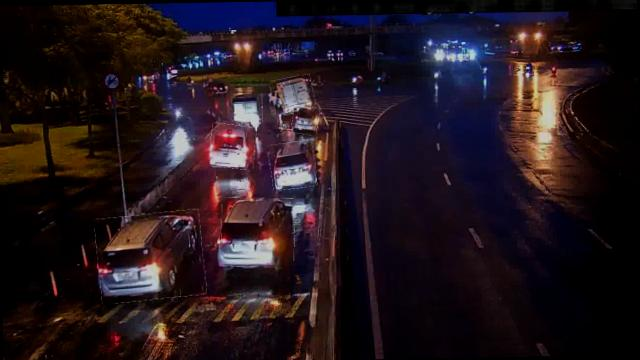Bus: (209, 122, 256, 168)
Car: (96, 210, 206, 302), (220, 197, 296, 267), (268, 139, 316, 190), (291, 106, 319, 135)
Truck: (270, 74, 315, 112), (233, 93, 262, 122)
